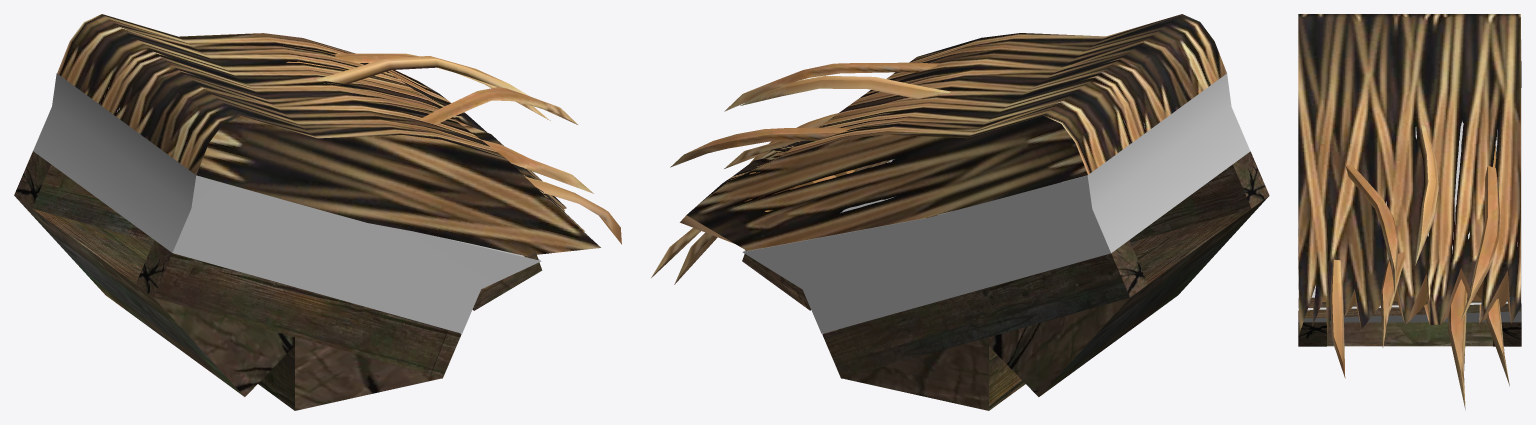
The picture shows the model from 3 angles, left to right: view 1: azimuth 30°, elevation 25°; view 2: azimuth 150°, elevation 25°; view 3: azimuth 270°, elevation 25°; orthographic projection. The views are drawn at different scales.
Visible parts, largest first — view 1: SM_BB_T1_Extended_Roof_Small_Shallow_LOD0; view 2: SM_BB_T1_Extended_Roof_Small_Shallow_LOD0; view 3: SM_BB_T1_Extended_Roof_Small_Shallow_LOD0.
Boxes of the visible parts, x1,y1,x2,y2 form: SM_BB_T1_Extended_Roof_Small_Shallow_LOD0: [14, 14, 621, 410]; SM_BB_T1_Extended_Roof_Small_Shallow_LOD0: [651, 14, 1269, 410]; SM_BB_T1_Extended_Roof_Small_Shallow_LOD0: [1298, 14, 1521, 410].
Size of the model in its own units: 1.56 by 0.9308 by 0.7542.
